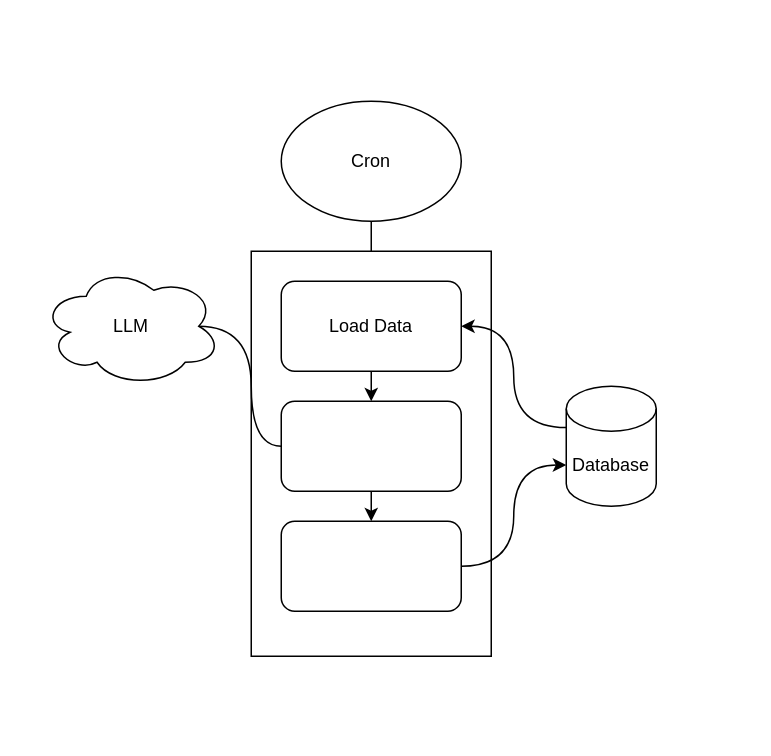
The diagram is 771 pixels wide and 756 high, and some of its shapes have lost their labels. Here are the shapes that lost their labels. From the top down, the box of each, then its label:
(280, 400, 461, 491): Analyse Data
(280, 520, 461, 611): Make Decision
